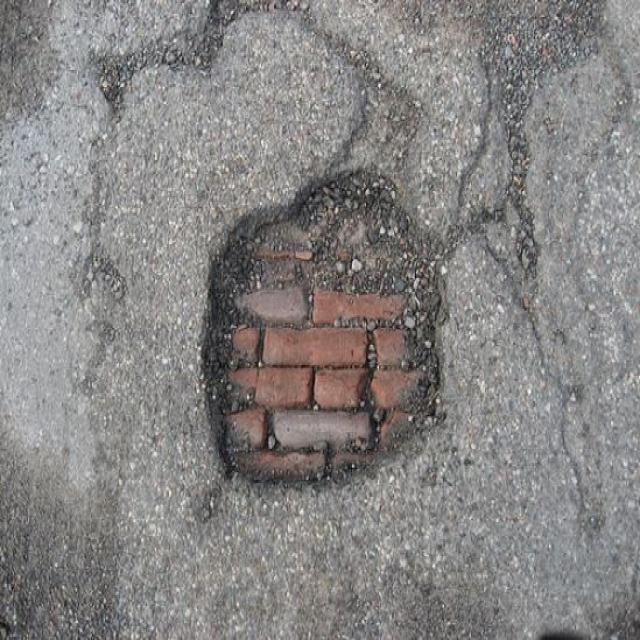Pothole: (191, 162, 445, 497)
